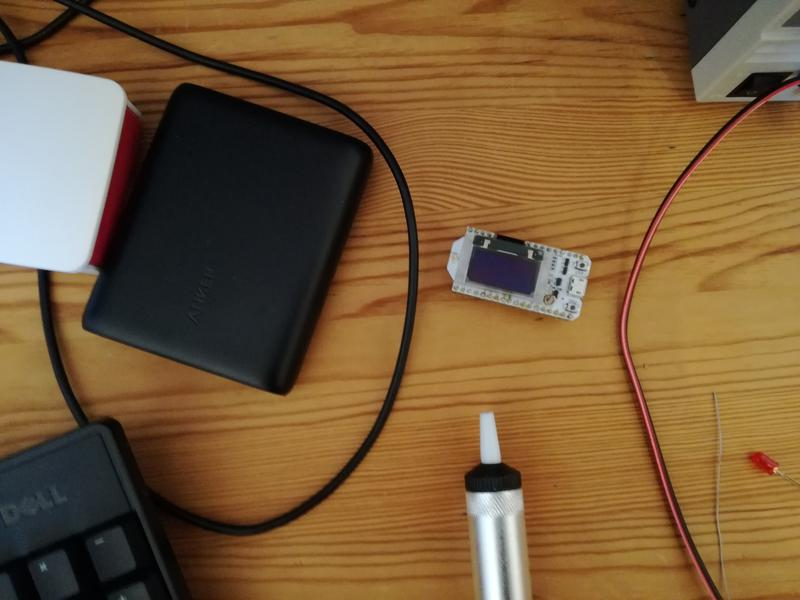Heltec_ESP32_Lora: (439, 222, 593, 325)
